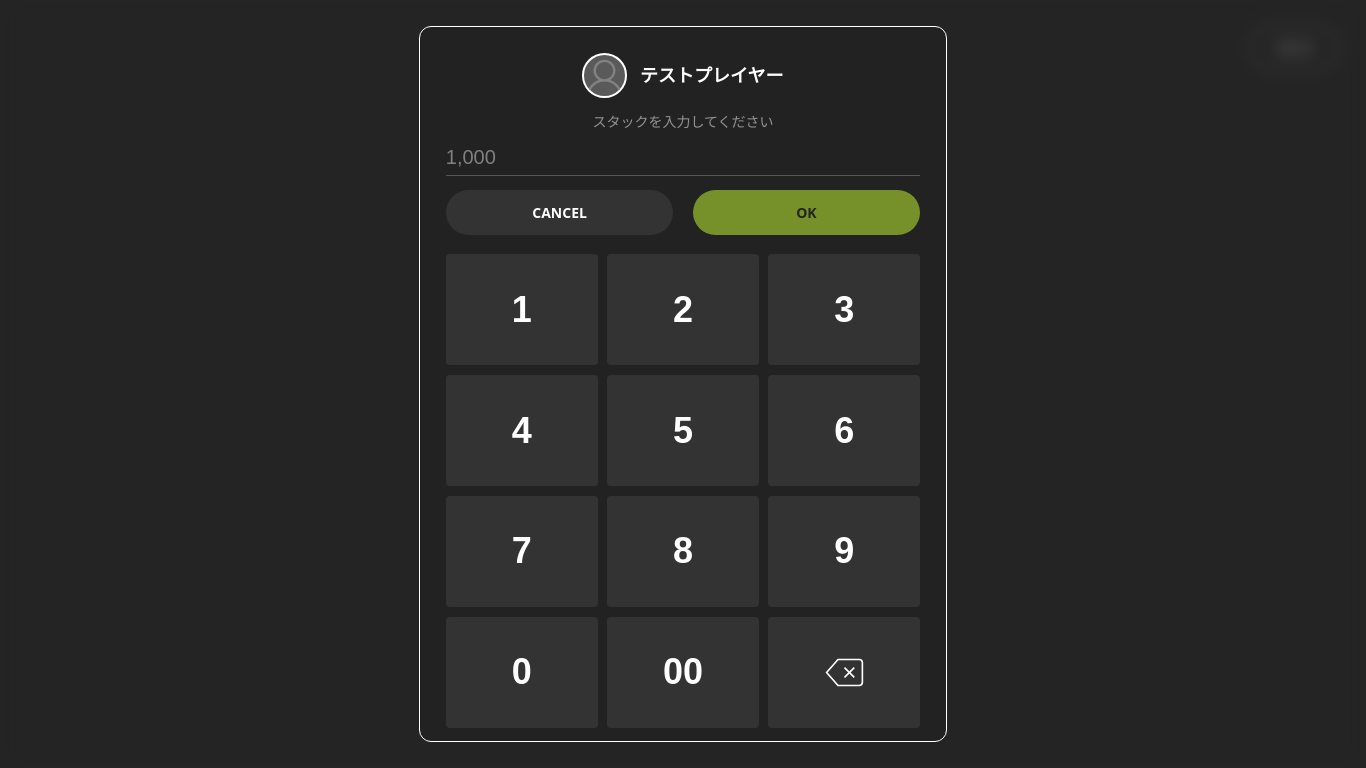
Scenario: CheckIn › スタック入力ステップ › CANCEL を押すとスキャニングステップに戻る
This screenshot has width=1366, height=768.
Expected: the text "スタックを入力してください" is shown, [592,112,774,131]
Click the button "CANCEL": (560, 213) [446,190,673,235]
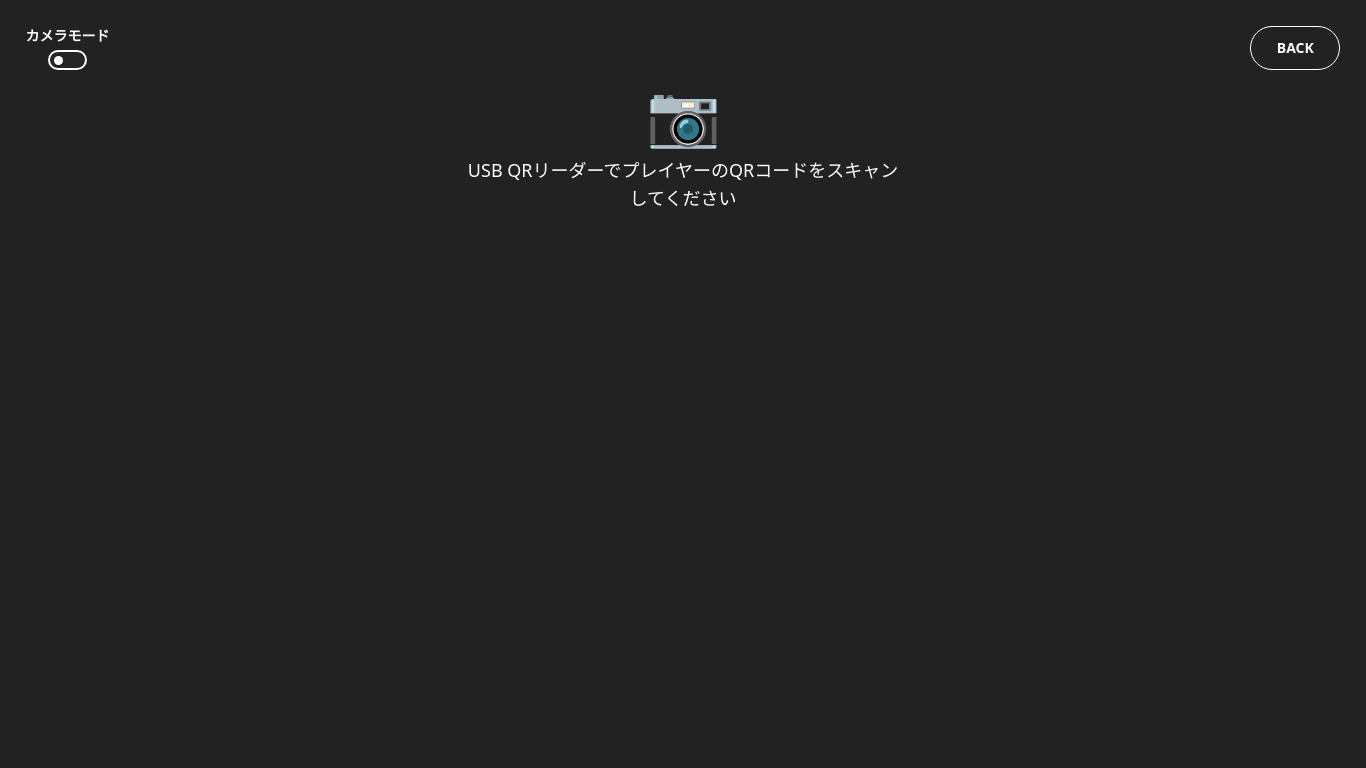
Expected: the text "USB QRリーダーでプレイヤーのQRコードをスキャンしてください" is shown, [459,156,907,212]
